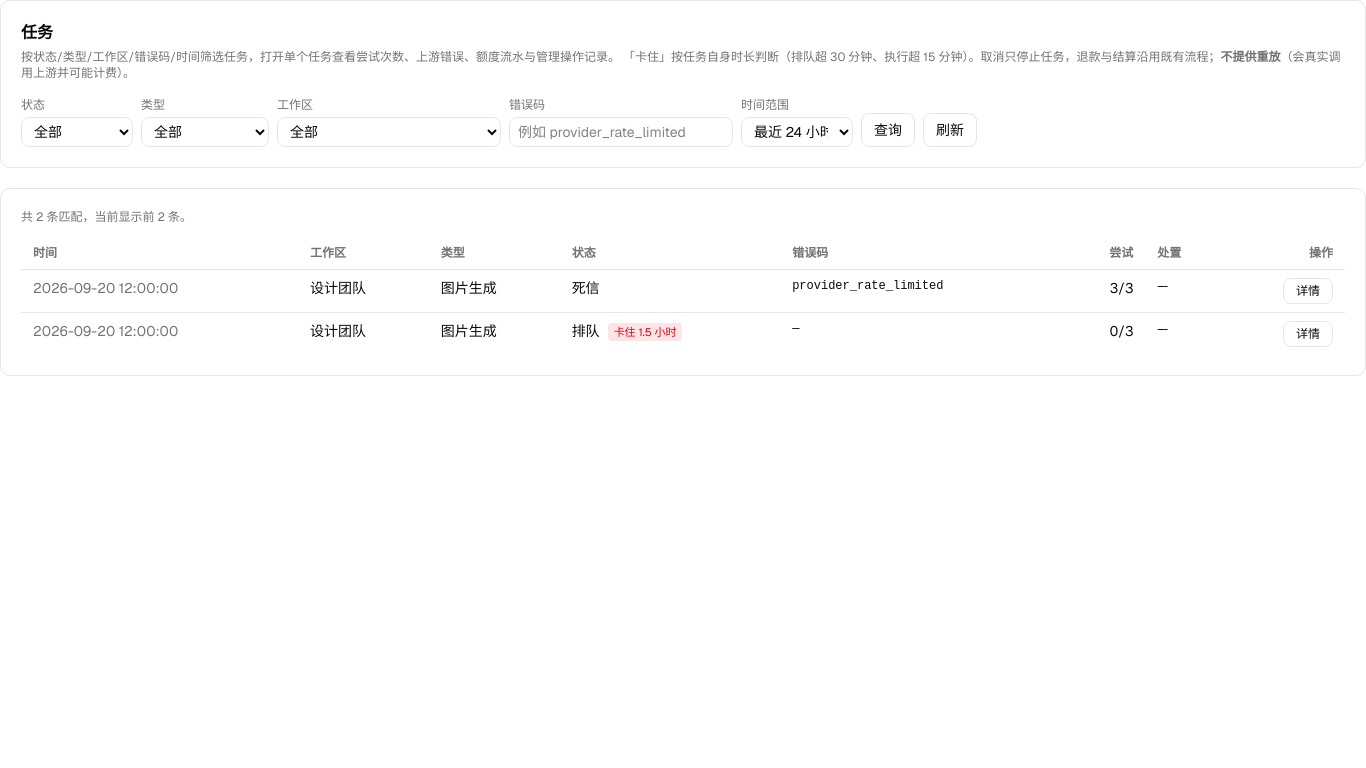
Test case: admin jobs section › shows the derived acknowledgement state of a reviewed failure
Click the button "详情" in the row of "死信" at (1308, 291), box x1=1283 y1=278 x2=1333 y2=304
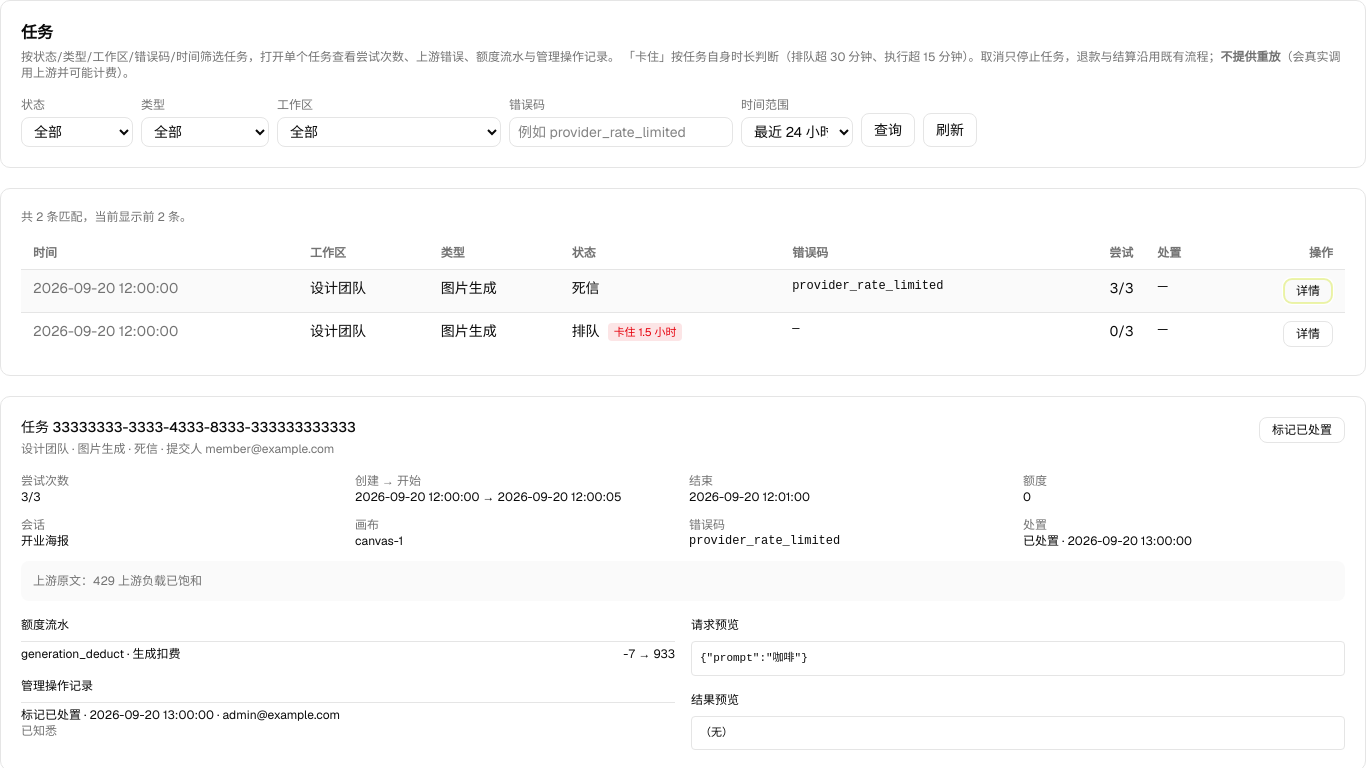
Expected: the text "已处置 · 2026-09-20 13:00:00" is shown, x1=1023 y1=533 x2=1192 y2=549
